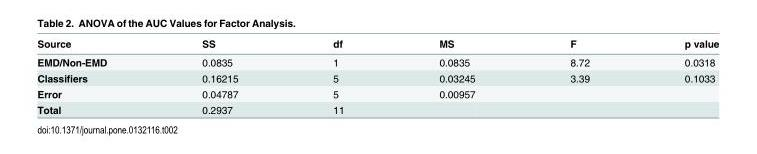table: (36, 37, 718, 115)
table column: (390, 37, 522, 115), (153, 37, 284, 115), (36, 37, 153, 115), (522, 37, 636, 115), (284, 37, 390, 115), (636, 37, 718, 115)
table column header: (36, 37, 718, 52)
table row: (36, 52, 718, 69), (36, 69, 718, 85), (36, 85, 718, 101), (36, 37, 718, 52), (36, 101, 718, 115)
